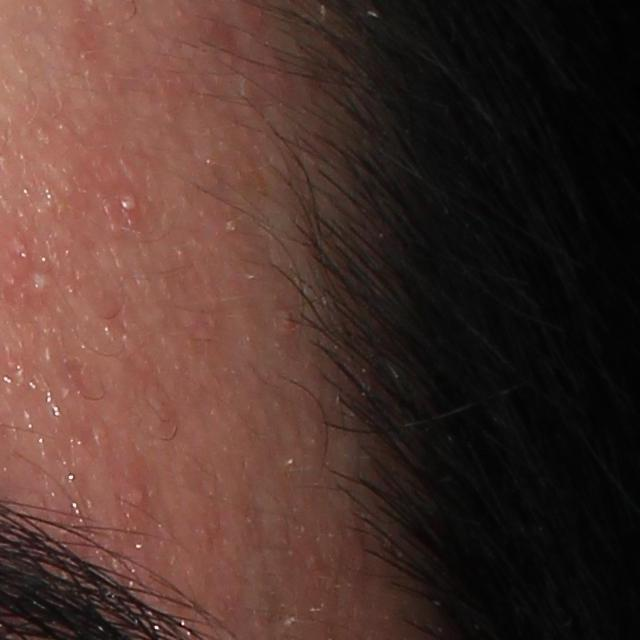pustule: (104, 177, 152, 238), (22, 266, 60, 302)
